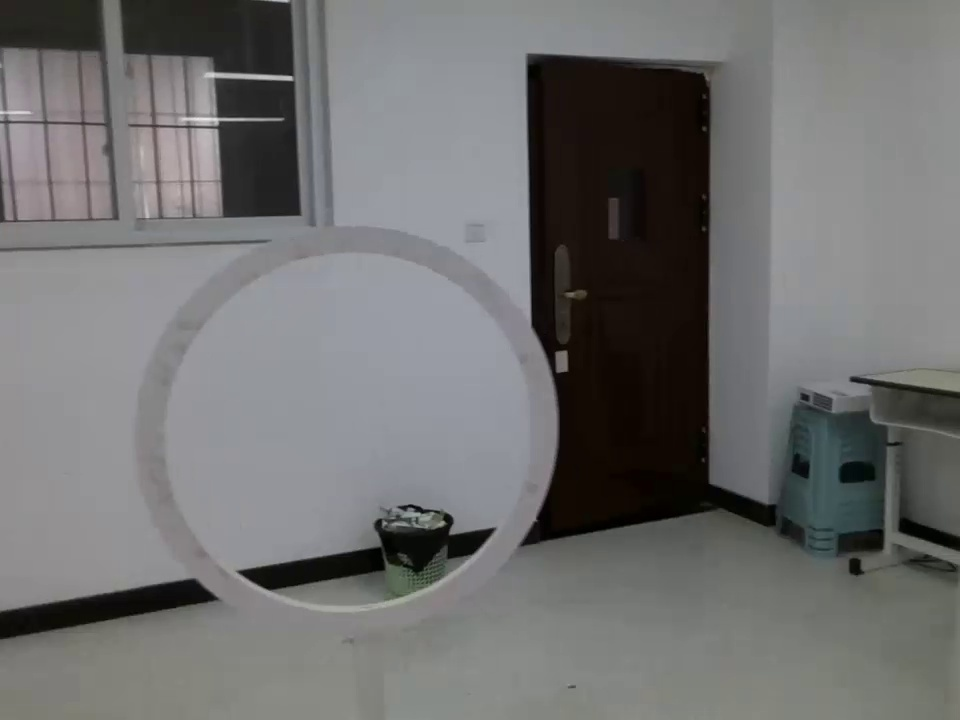quan: (145, 230, 556, 620)
